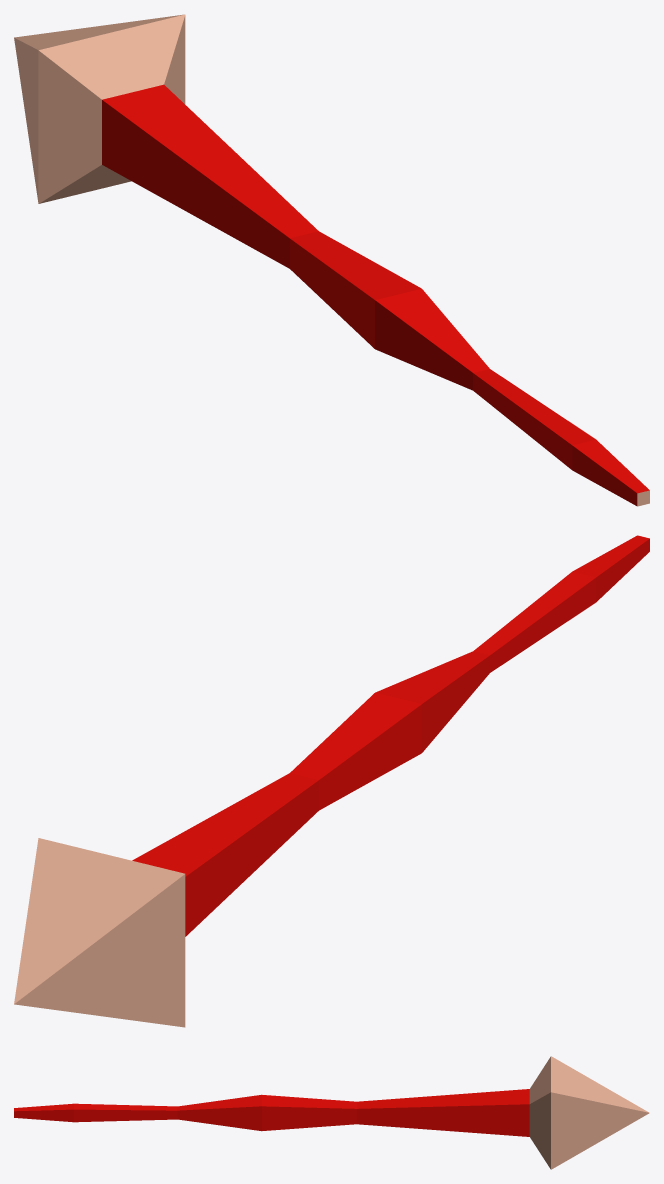
Rendered from Arrow.fbx.
3 renders of one model, top to bottom at view 1: azimuth 30°, elevation 25°; view 2: azimuth 150°, elevation 25°; view 3: azimuth 270°, elevation 25°, orthographic. The views are drawn at different scales.
Parts seen in each view (by area): view 1: Cube; view 2: Cube; view 3: Cube.
Part boxes in pixels (x1,y1,x2,y2): Cube: (14,14,649,506); Cube: (14,535,649,1027); Cube: (14,1056,649,1169).
Size of the model in its own units: 27.51 by 27.51 by 204.
